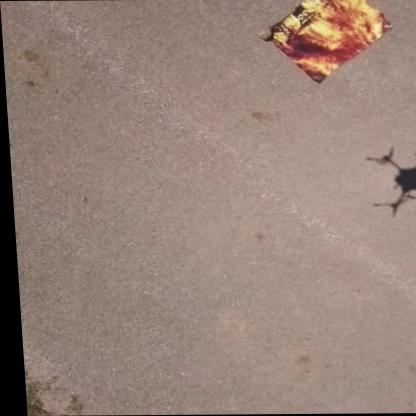fire-poster: (259, 0, 397, 83)
